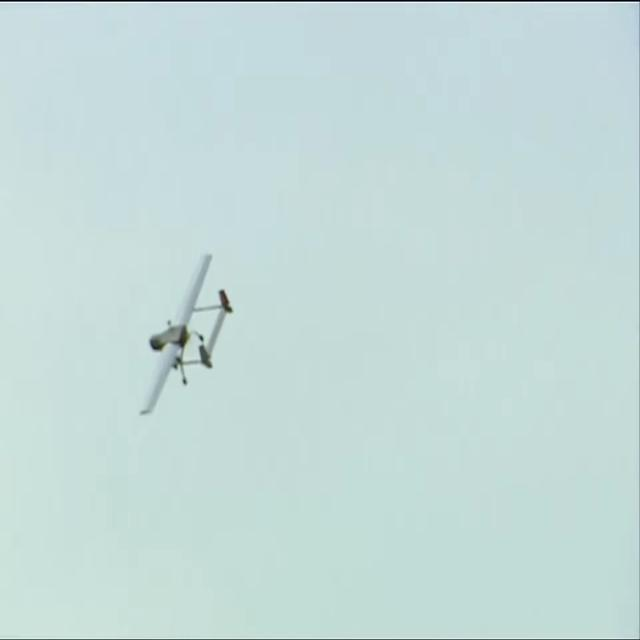iha: (170, 251, 202, 418)
